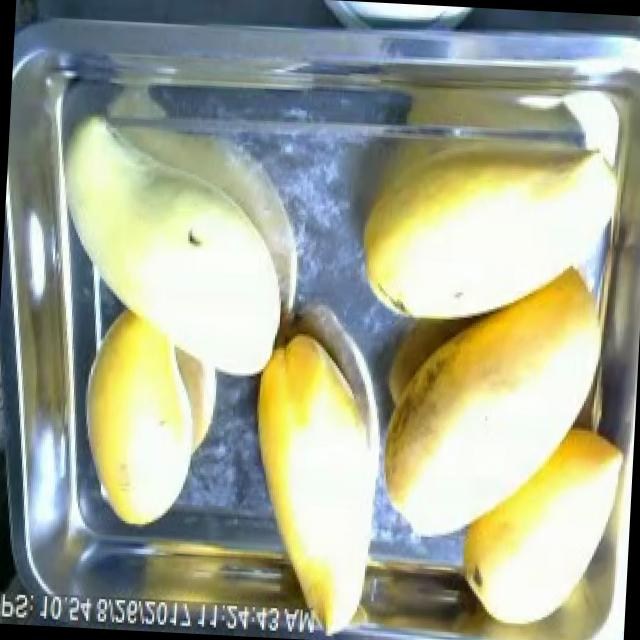fruit: (332, 28, 621, 334), (36, 102, 253, 323), (443, 404, 635, 640), (63, 292, 233, 538)
